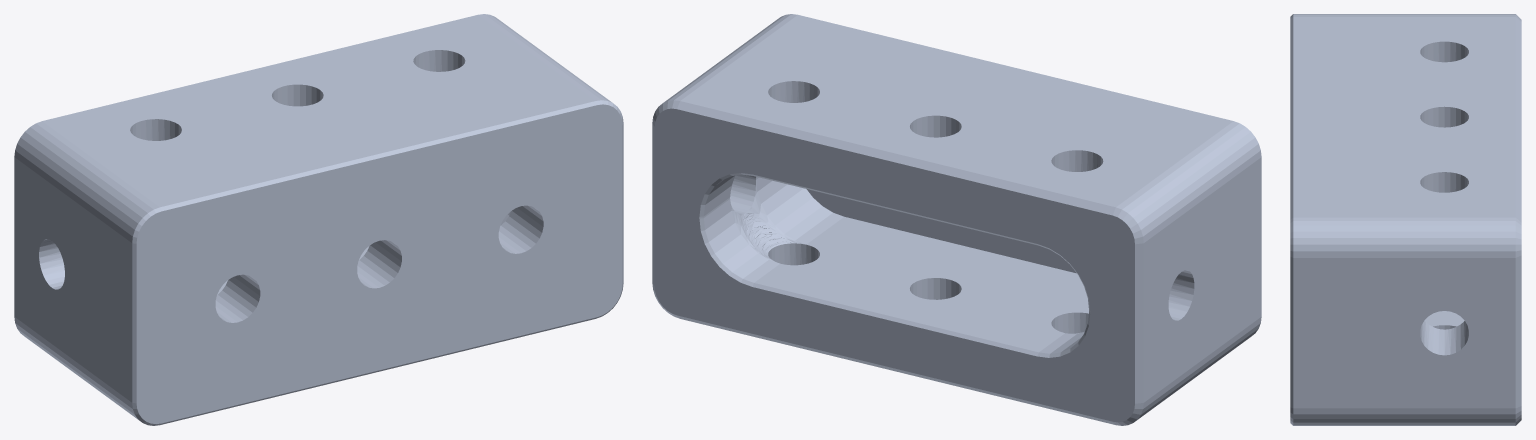
File: WCP-0374.glb
The picture shows the model from 3 angles, left to right: view 1: azimuth 30°, elevation 25°; view 2: azimuth 150°, elevation 25°; view 3: azimuth 270°, elevation 25°; orthographic projection. The views are drawn at different scales.
Size of the model in its own units: 44.07 by 18.67 by 19.05.
